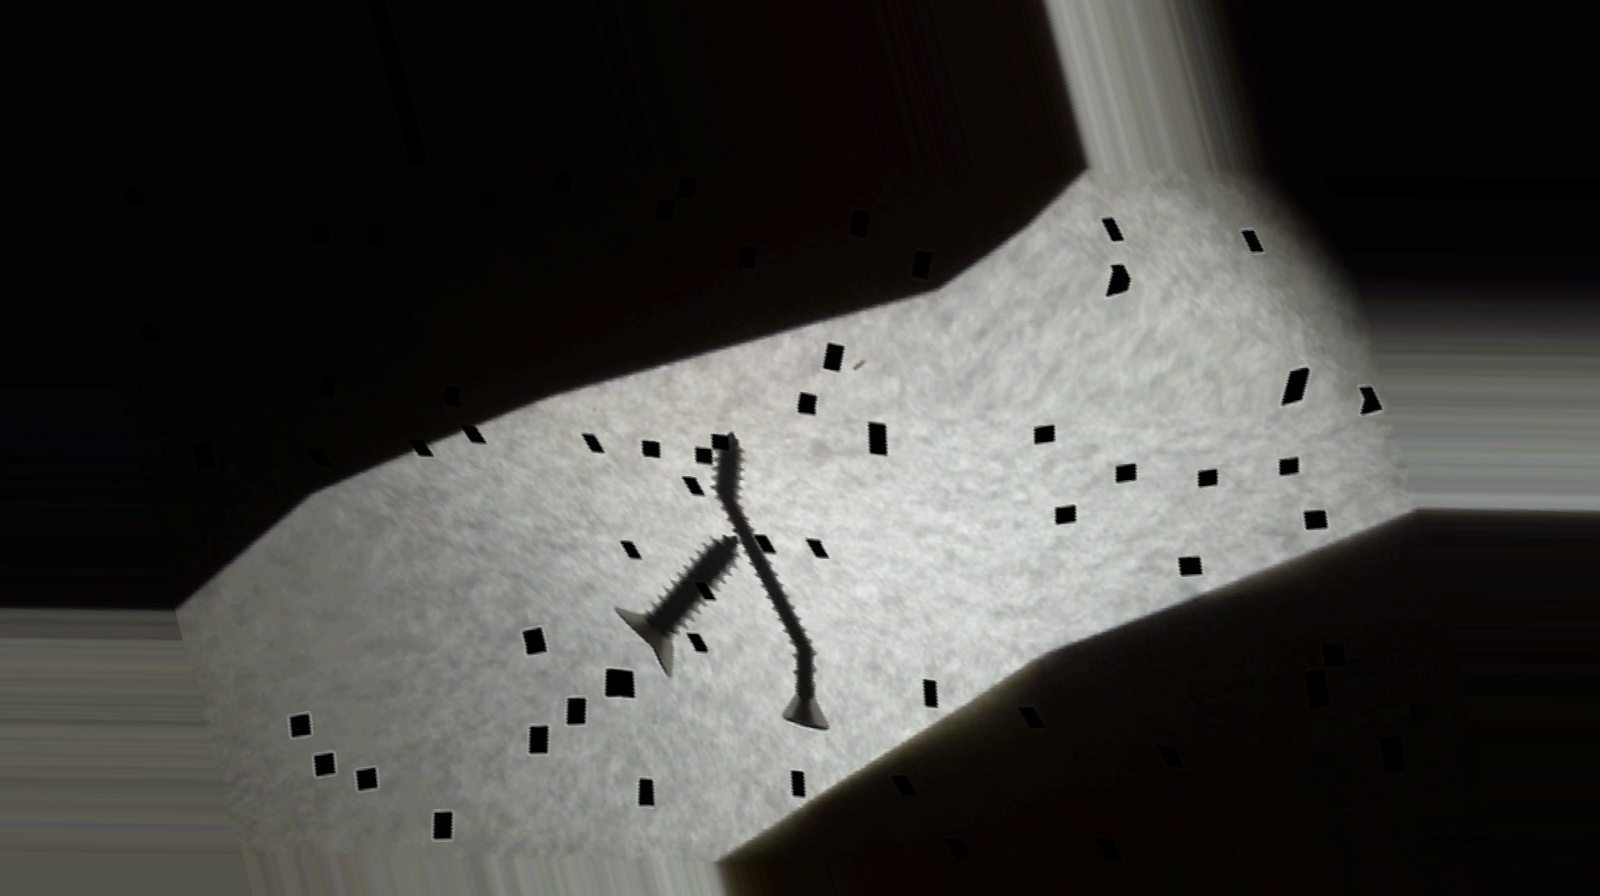S001: (543, 508, 809, 696)
S002: (659, 413, 840, 737)
